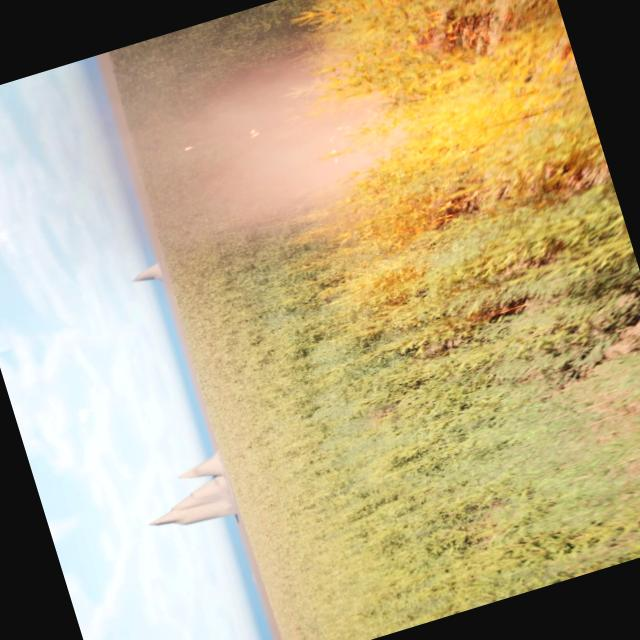smoke: (121, 35, 402, 258)
